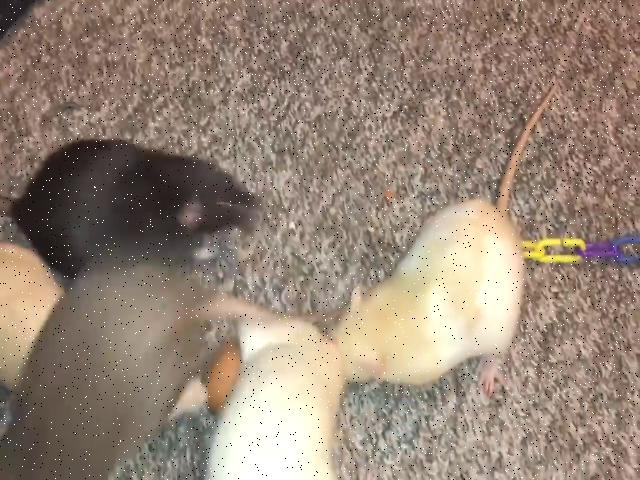Tikus: (334, 196, 528, 396), (9, 137, 260, 276)
